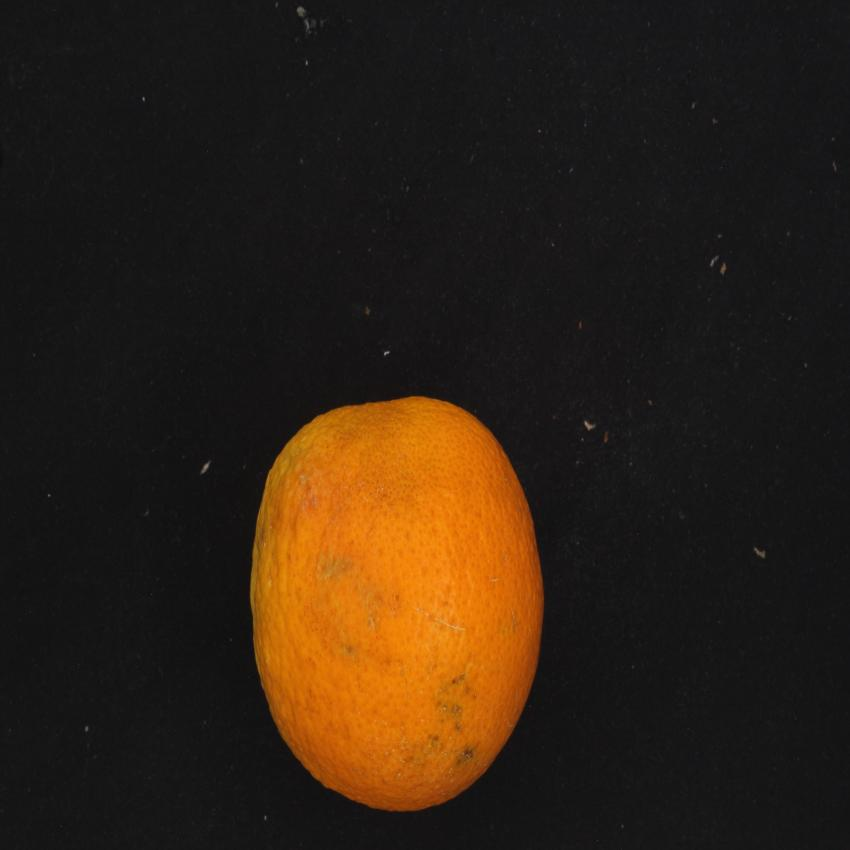Buen estado: (241, 366, 560, 829)
